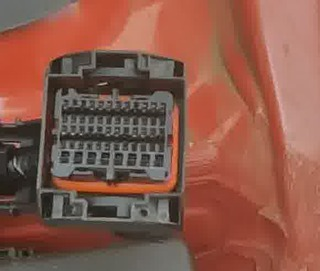connector: (36, 49, 186, 233)
